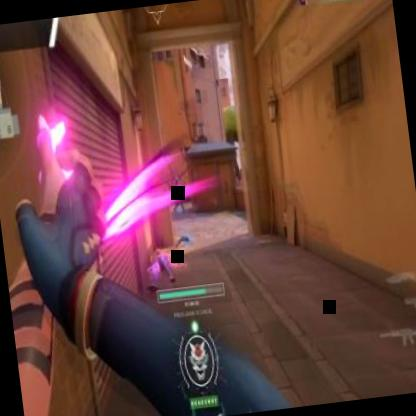enemy: (168, 175, 184, 214)
enemy_head: (174, 176, 179, 184)
